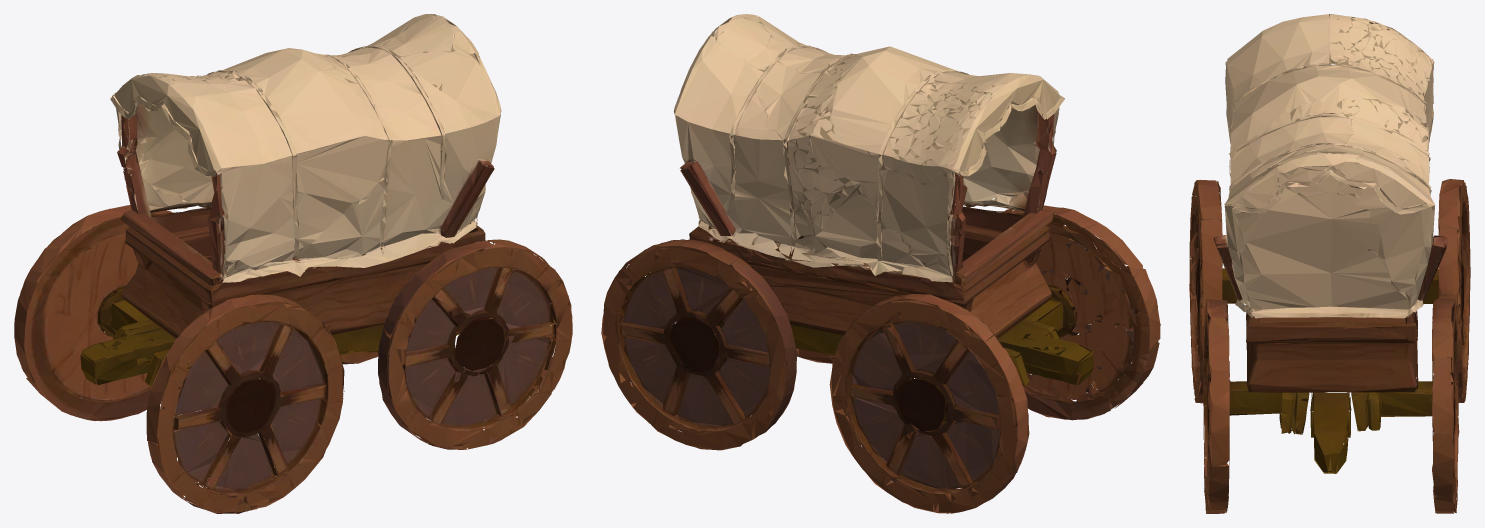
The model's file is wagon.glb.
3 views of the same model, side by side, from view 1: azimuth 30°, elevation 25°; view 2: azimuth 150°, elevation 25°; view 3: azimuth 270°, elevation 25° (orthographic). The views are drawn at different scales.
Parts seen in each view (by area): view 1: material; view 2: material; view 3: material.
Part boxes in pixels (x1,y1,x2,y2): material: (14,14,572,513); material: (601,14,1160,513); material: (1189,14,1470,513).
Bounding box in the file's own units: 1.1 × 0.92 × 0.6282.
Materials: 1 (1 with a texture image).
